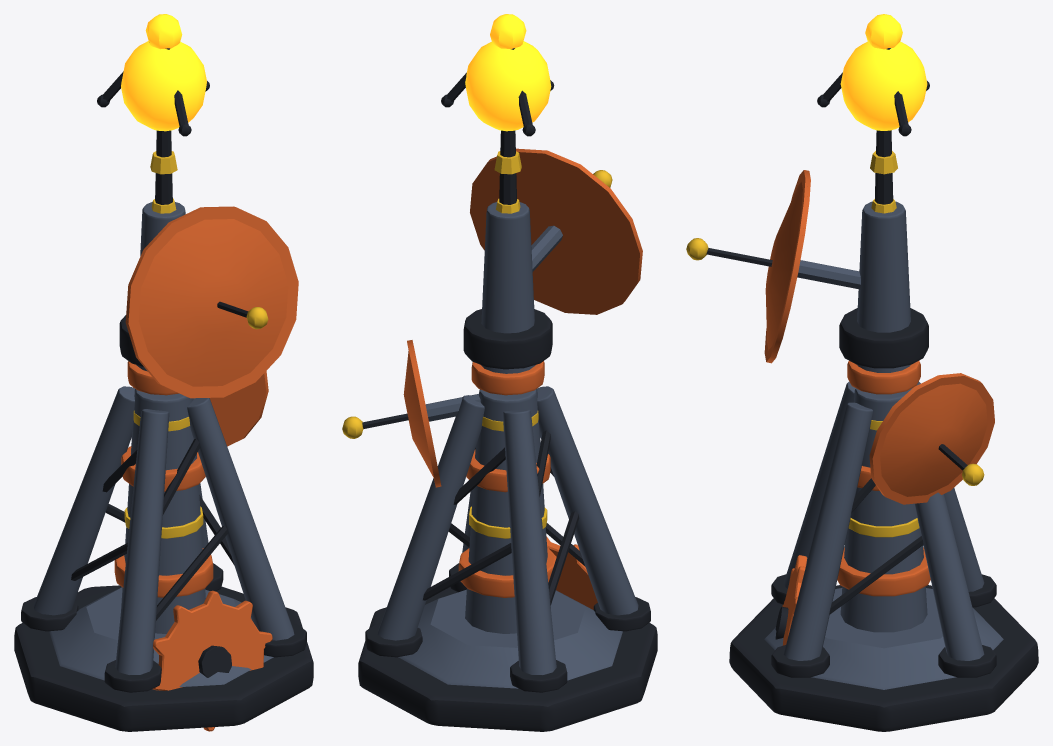
Rendered from env_cog_pylon.fbx.
3 views of the same model, side by side, from view 1: azimuth 30°, elevation 25°; view 2: azimuth 150°, elevation 25°; view 3: azimuth 270°, elevation 25° (orthographic).
Visible parts, largest first — view 1: Plates, Body, Dark, Beacon, Trim; view 2: Body, Dark, Plates, Beacon, Trim; view 3: Body, Dark, Plates, Beacon, Trim.
Part boxes in pixels (left/top/right/bottom): Plates: left=114, top=206, right=298, bottom=731; Body: left=33, top=202, right=294, bottom=686; Dark: left=14, top=48, right=313, bottom=731; Beacon: left=121, top=14, right=206, bottom=131; Trim: left=124, top=151, right=268, bottom=538; Body: left=377, top=202, right=638, bottom=688; Dark: left=358, top=48, right=657, bottom=731; Plates: left=403, top=148, right=642, bottom=609; Beacon: left=465, top=14, right=551, bottom=131; Trim: left=342, top=151, right=612, bottom=538; Body: left=764, top=201, right=1003, bottom=689; Dark: left=706, top=48, right=1038, bottom=731; Plates: left=764, top=170, right=994, bottom=645; Beacon: left=840, top=14, right=927, bottom=130; Trim: left=686, top=151, right=984, bottom=537.
Bounding box in the file's own units: 6.54 × 15.72 × 7.47.
